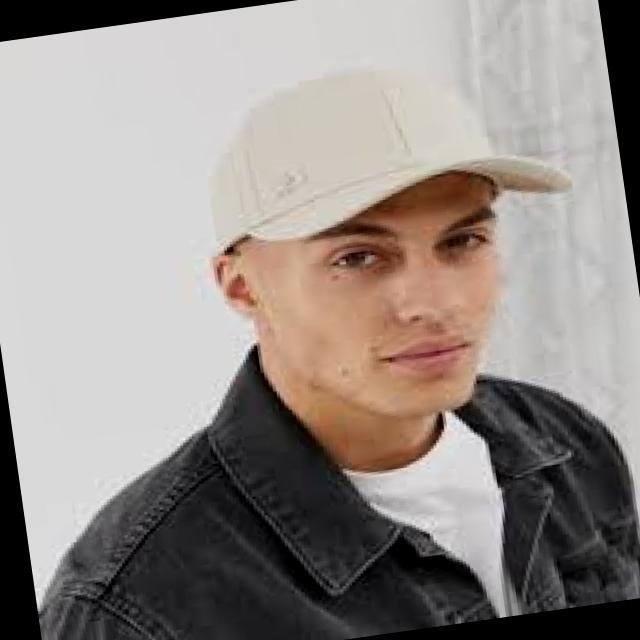cap: (138, 18, 594, 312)
